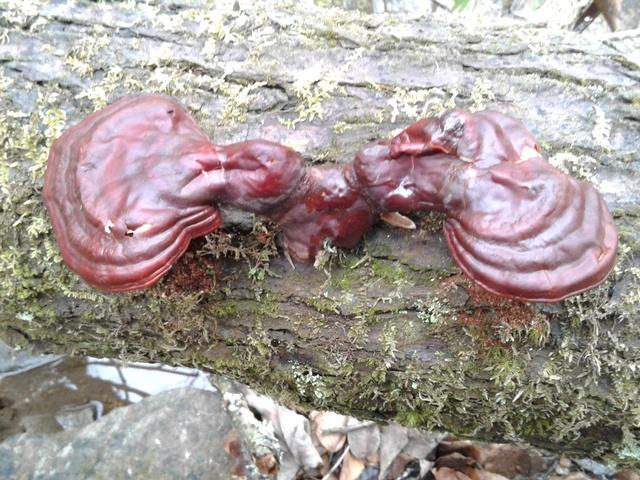Non-edible Mushroom: (41, 91, 619, 303)
